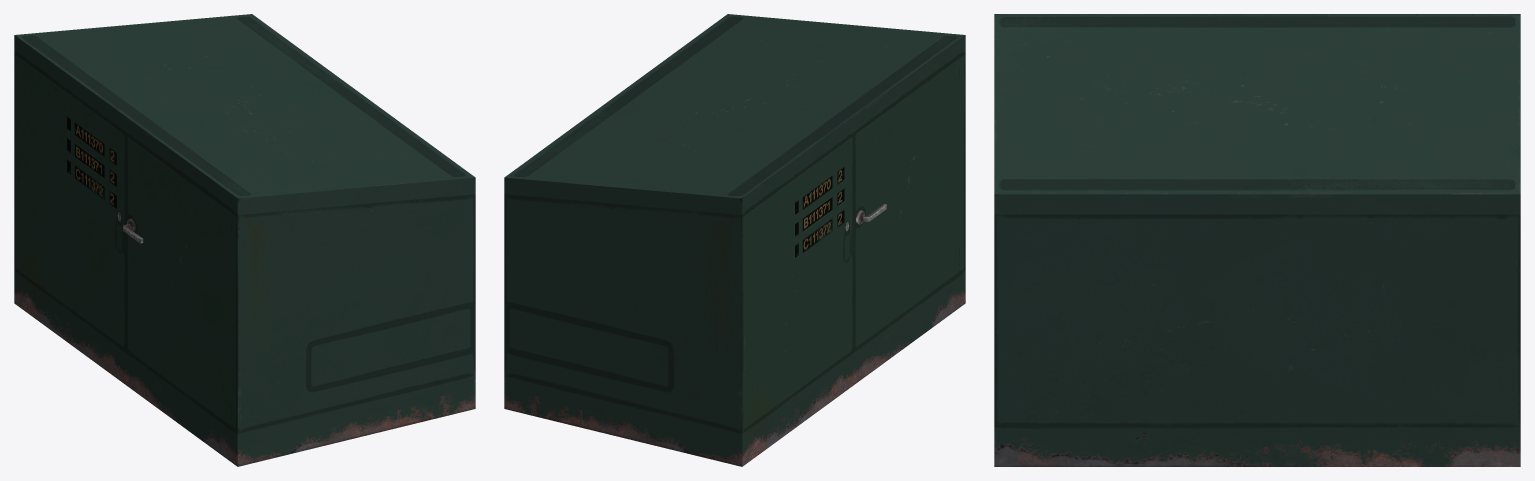
The model's file is MB_Transformer_02.fbx.
3 renders of one model, left to right at view 1: azimuth 30°, elevation 25°; view 2: azimuth 150°, elevation 25°; view 3: azimuth 270°, elevation 25°, orthographic. The views are drawn at different scales.
Visible parts, largest first — view 1: MB_Transformer_02; view 2: MB_Transformer_02; view 3: MB_Transformer_02.
Boxes of the visible parts, <box> form: MB_Transformer_02: <box>14,14,475,466</box>; MB_Transformer_02: <box>504,14,965,466</box>; MB_Transformer_02: <box>994,14,1520,466</box>.
Size of the model in its own units: 114 by 118 by 178.
